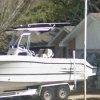Boat: (2, 33, 99, 100)
